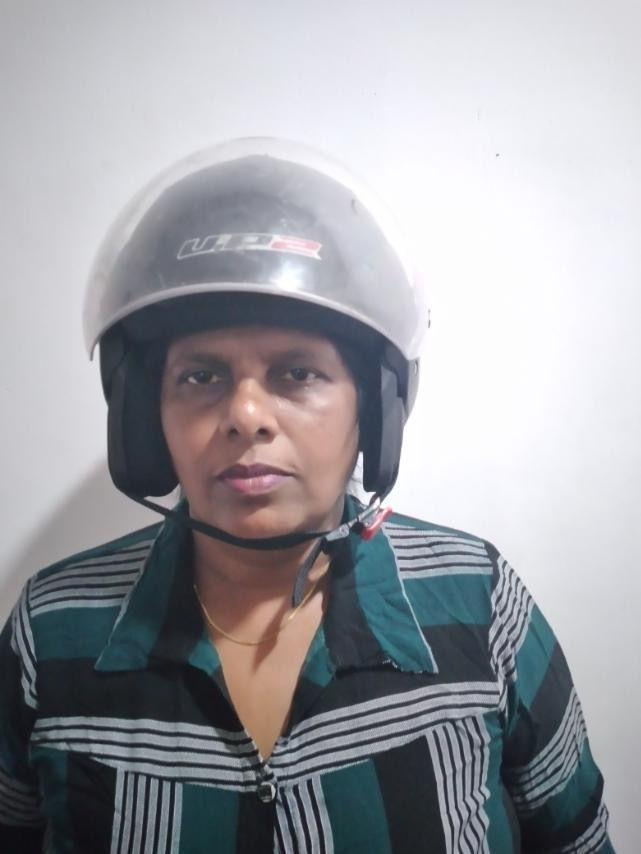helmet: (81, 136, 419, 549)
